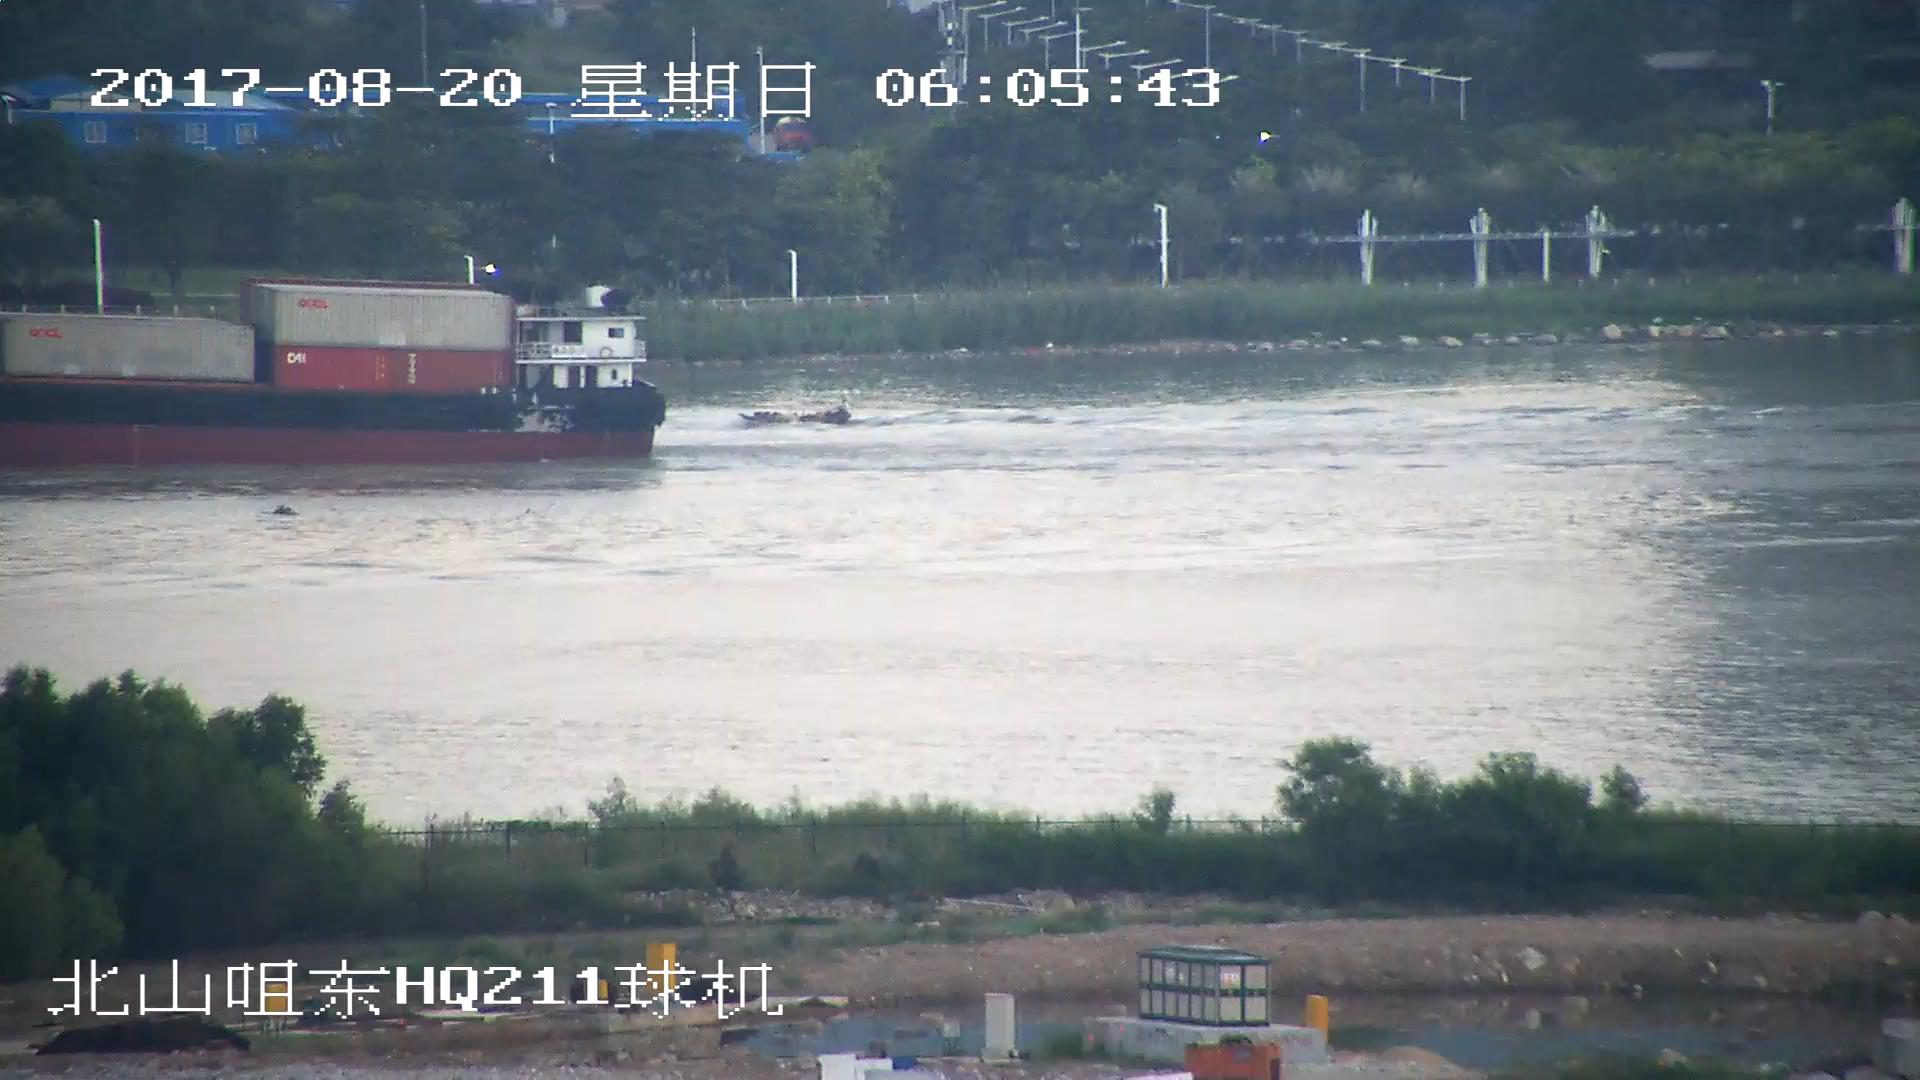container ship: (1, 283, 671, 471)
fishing boat: (739, 397, 850, 429)
